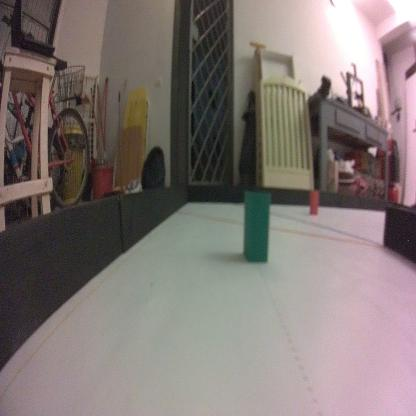green: (240, 187, 271, 263)
red: (310, 190, 320, 215)
